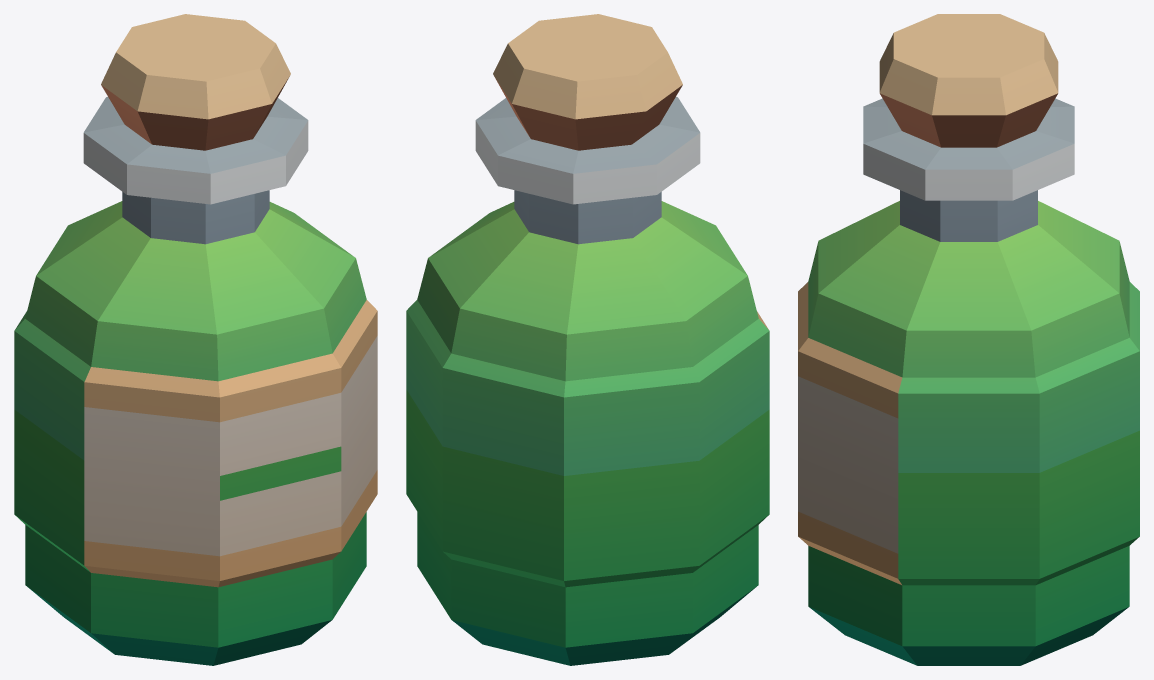
File: potion_medium_emerald.glb
The picture shows the model from 3 angles, left to right: view 1: azimuth 30°, elevation 25°; view 2: azimuth 150°, elevation 25°; view 3: azimuth 270°, elevation 25°; orthographic projection.
Visible parts, largest first — view 1: model; view 2: model; view 3: model.
Part boxes in pixels (left/top/right/bottom): model: left=14, top=14, right=377, bottom=665; model: left=406, top=14, right=769, bottom=665; model: left=798, top=14, right=1139, bottom=665.
Size of the model in its own units: 0.48 by 0.88 by 0.48.
1 material, 1 textured.
